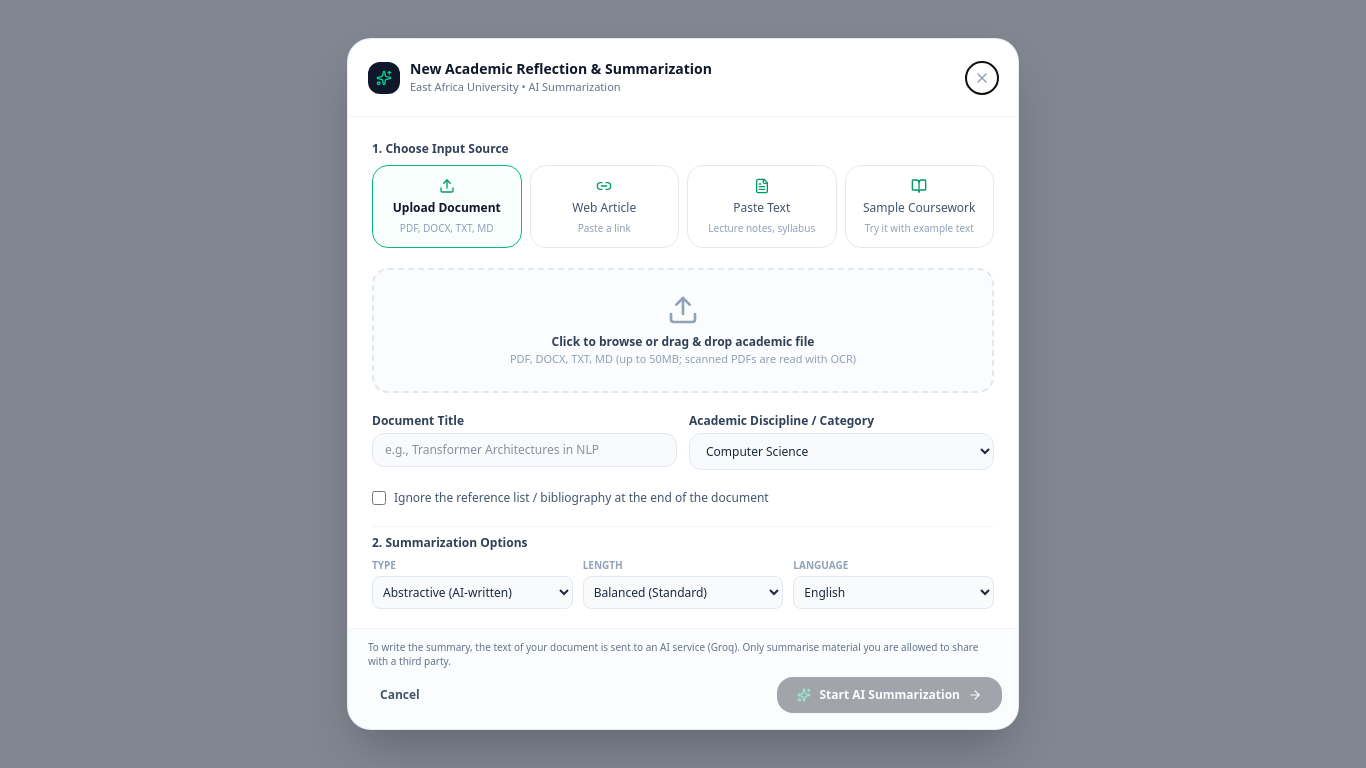
it: NewSummaryModal: web articles › rejects non-http schemes
Click the button "Web Article Paste a link" at (604, 207), box [530,165,679,248]
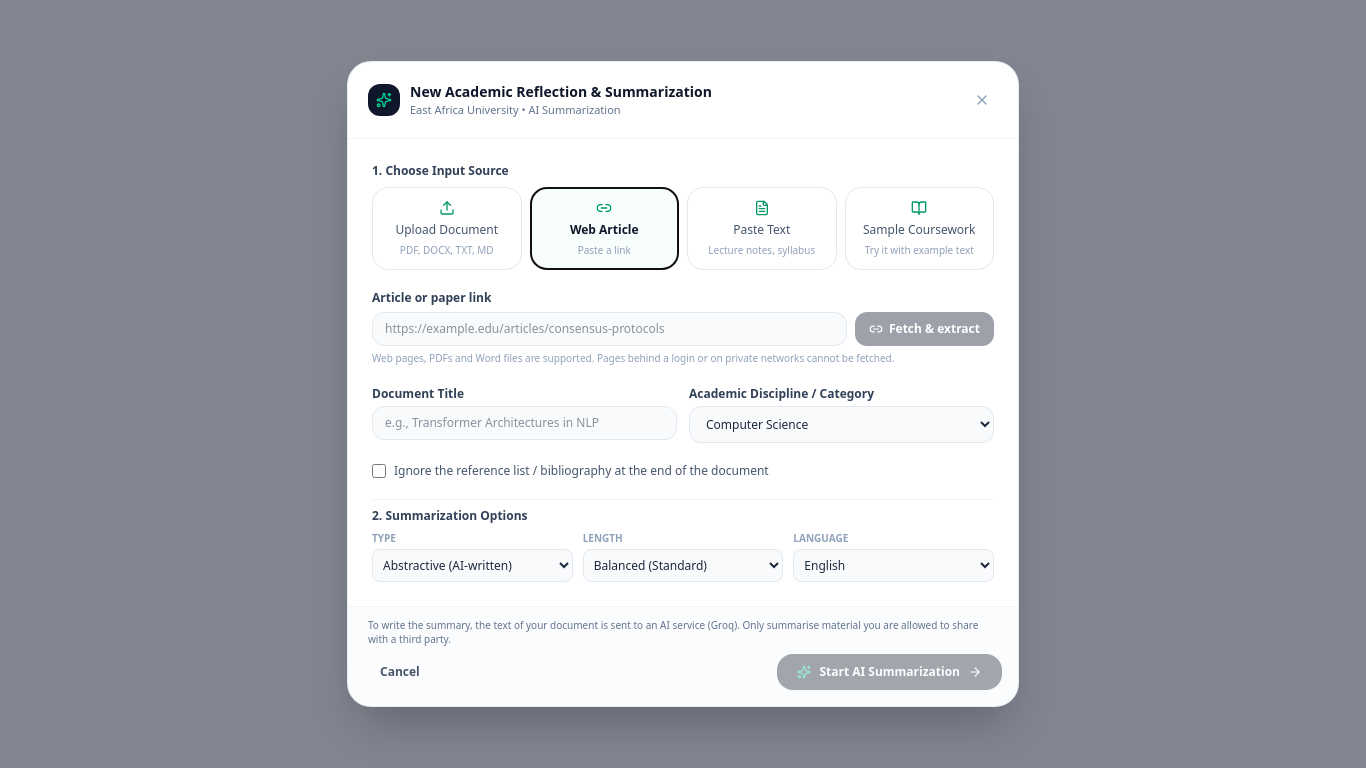
Type "ftp://example.com/file" into the field labelled "Article or paper link" at (610, 329), box [372,312,847,346]
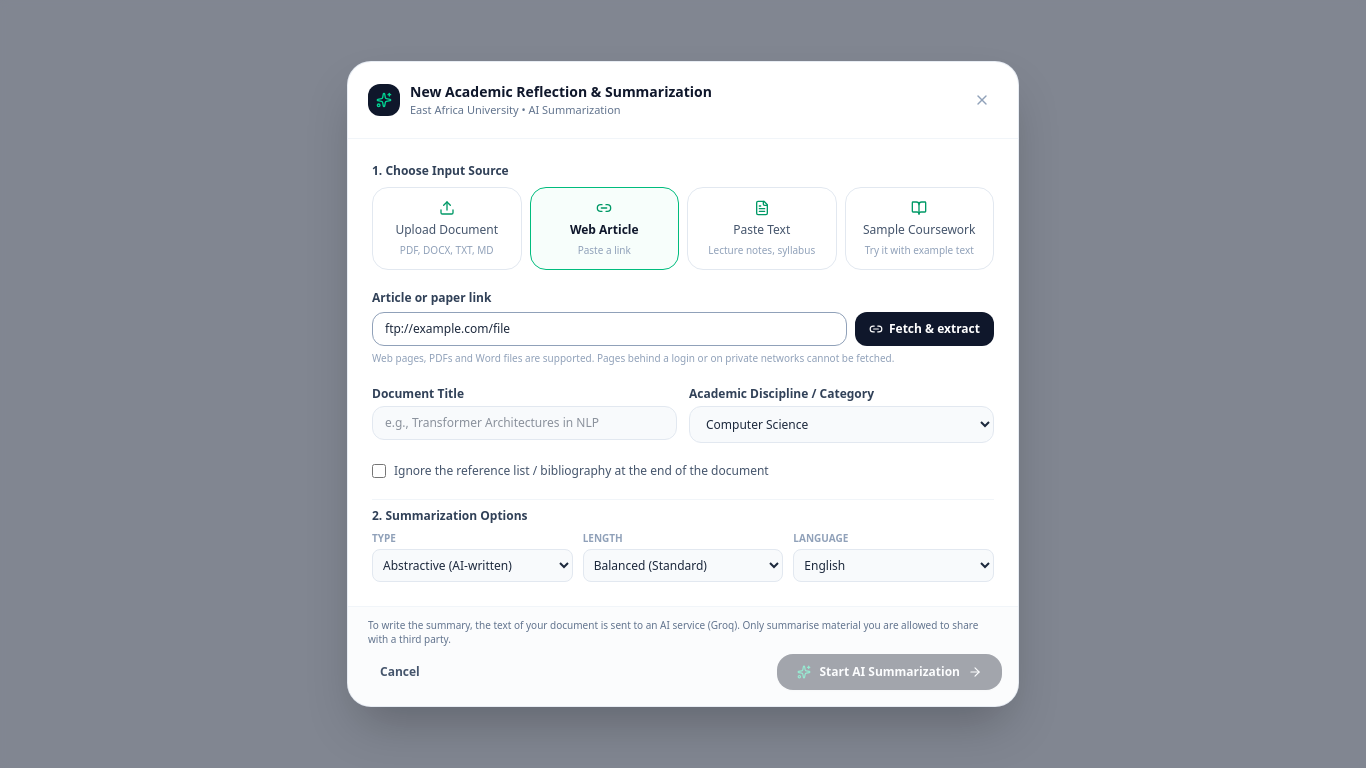
Click the button "Fetch & extract" at (924, 329), box [855,312,994,346]
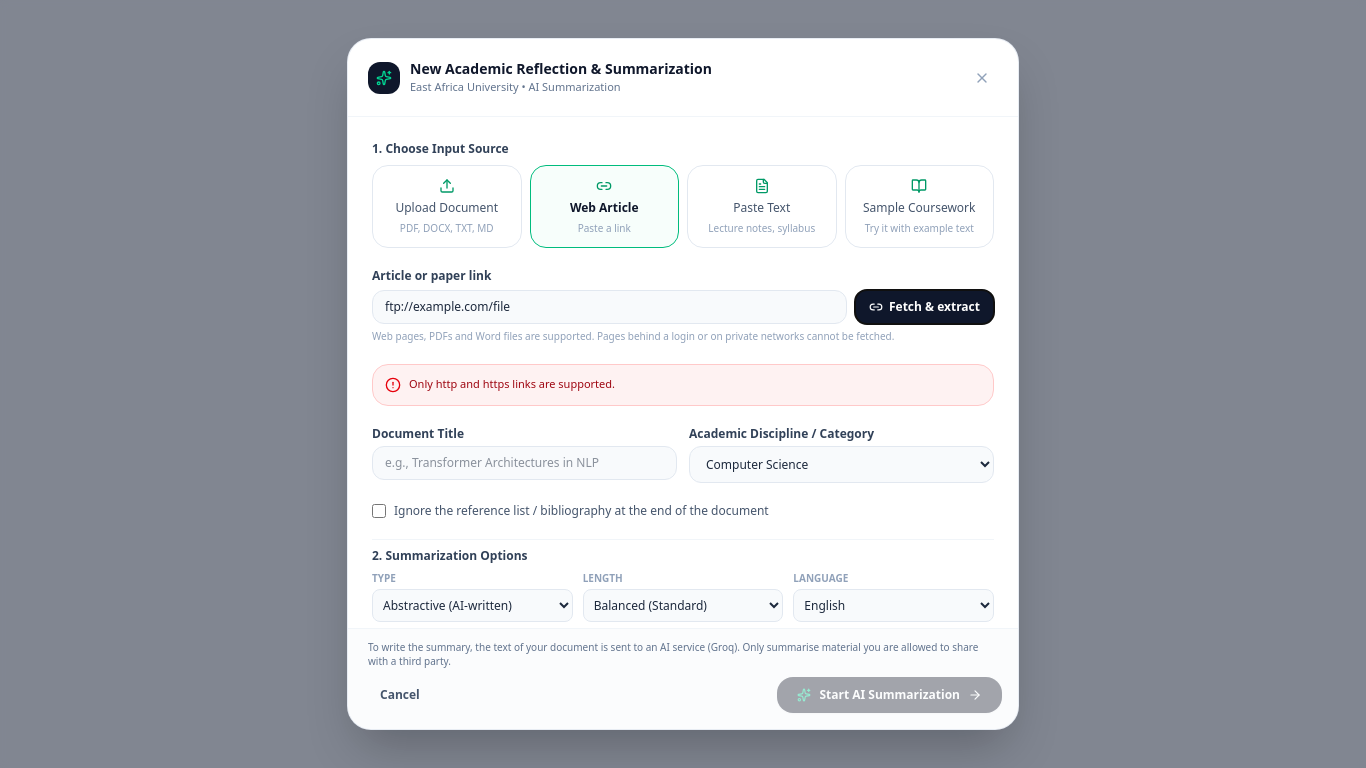
Result: the message shows "http and https" at [409,376,615,391]
